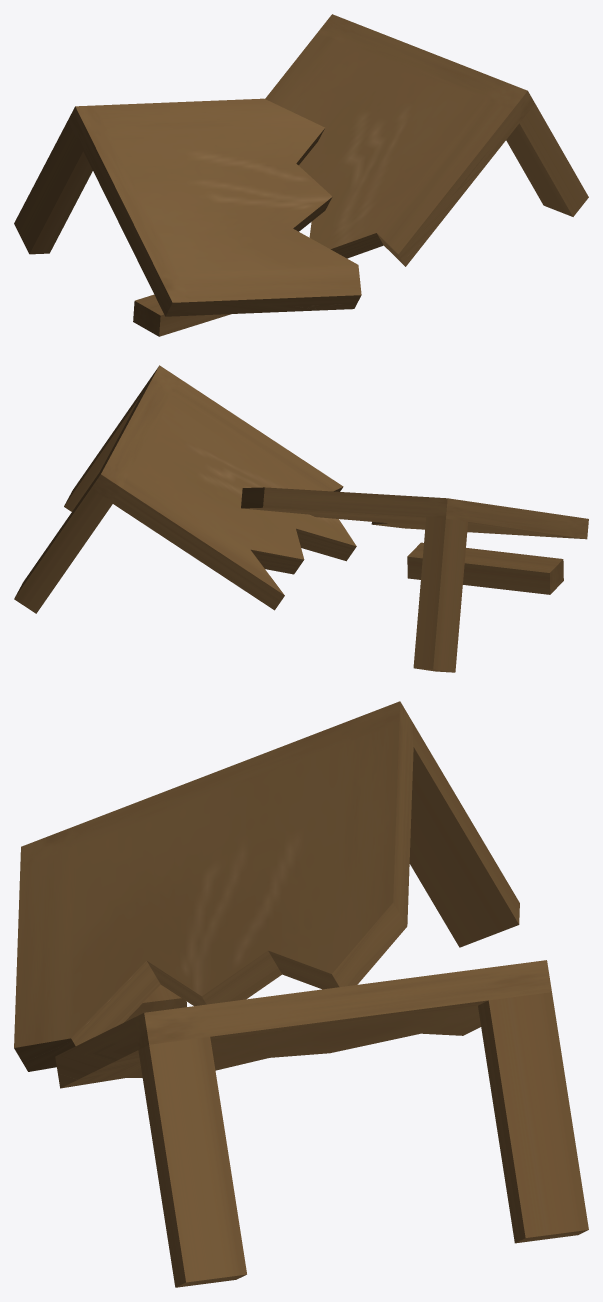
File: Table_Broken.fbx
3 views of the same model, one above another, from view 1: azimuth 30°, elevation 25°; view 2: azimuth 150°, elevation 25°; view 3: azimuth 270°, elevation 25° (orthographic). The views are drawn at different scales.
Visible parts, largest first — view 1: Table_Broken; view 2: Table_Broken; view 3: Table_Broken.
Part boxes in pixels (left/top/right/bottom): Table_Broken: left=14, top=14, right=588, bottom=336; Table_Broken: left=14, top=365, right=588, bottom=672; Table_Broken: left=14, top=701, right=588, bottom=1287.
Size of the model in its own units: 205 by 67.38 by 136.
